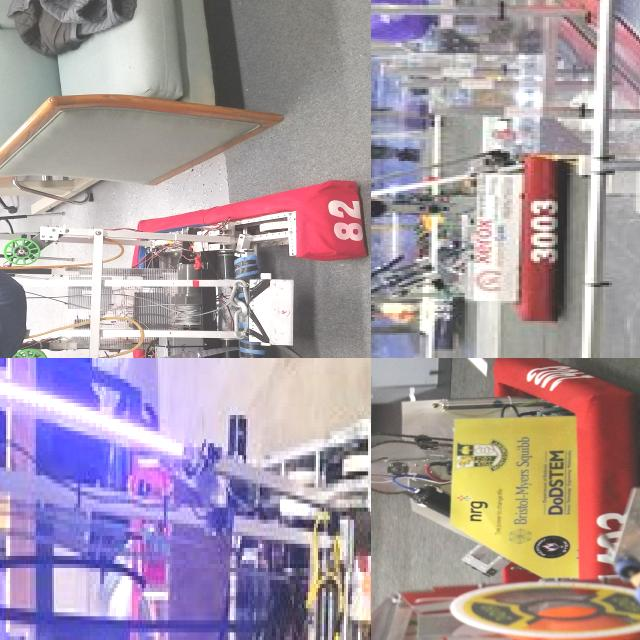FRC-Robots: (0, 358, 371, 640), (0, 136, 371, 358), (371, 358, 640, 640), (371, 0, 581, 338), (371, 358, 640, 582)
